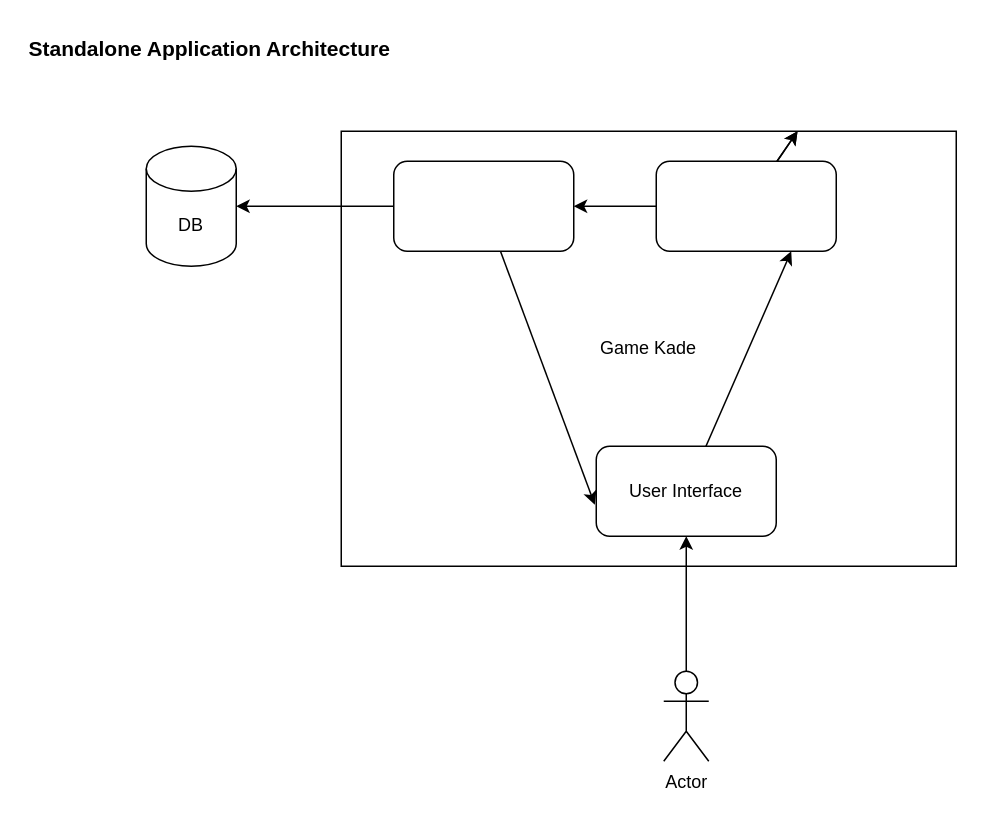
This 983x818 diagram has some shape labels left out. Each missing label, with the box of its shape:
DB Connect: (392, 160, 574, 251)
Stock Manage: (655, 160, 836, 251)
